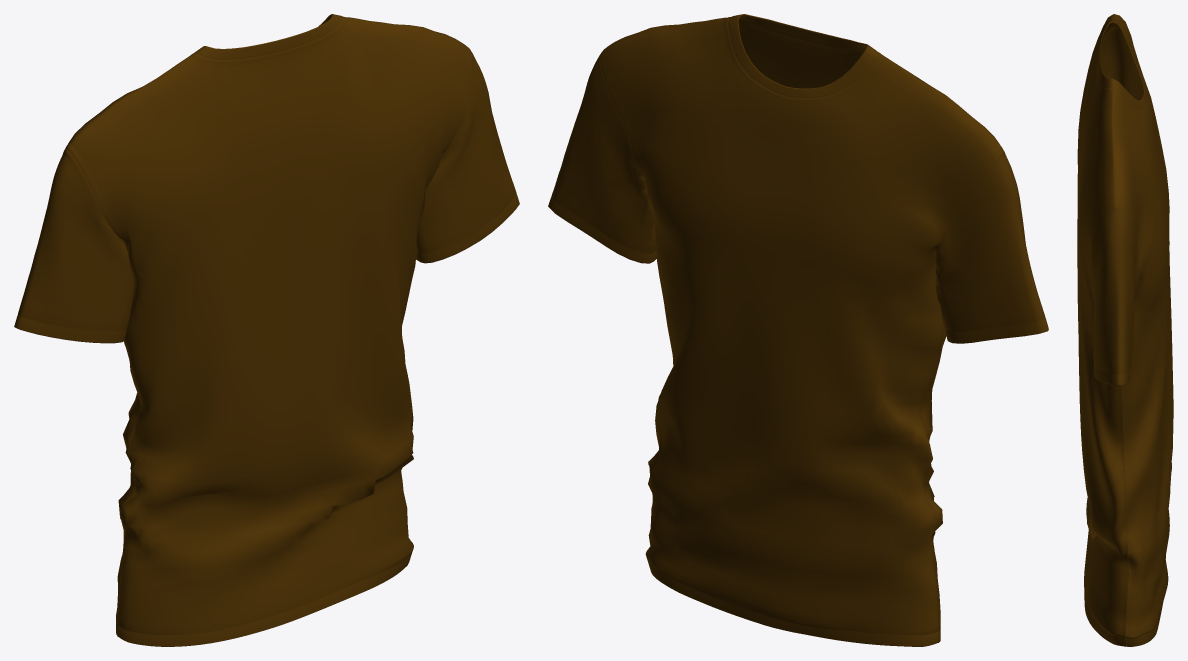
Rendered from T_Shirt_male134.fbx.
The picture shows the model from 3 angles, left to right: view 1: azimuth 30°, elevation 25°; view 2: azimuth 150°, elevation 25°; view 3: azimuth 270°, elevation 25°; orthographic projection. The views are drawn at different scales.
Visible parts, largest first — view 1: T_Shirt_male134; view 2: T_Shirt_male134; view 3: T_Shirt_male134.
Part boxes in pixels (<box>): T_Shirt_male134: <box>14,14,519,646</box>; T_Shirt_male134: <box>548,14,1048,646</box>; T_Shirt_male134: <box>1077,14,1173,646</box>.
Bounding box in the file's own units: 19.1 × 21.2 × 3.39.
